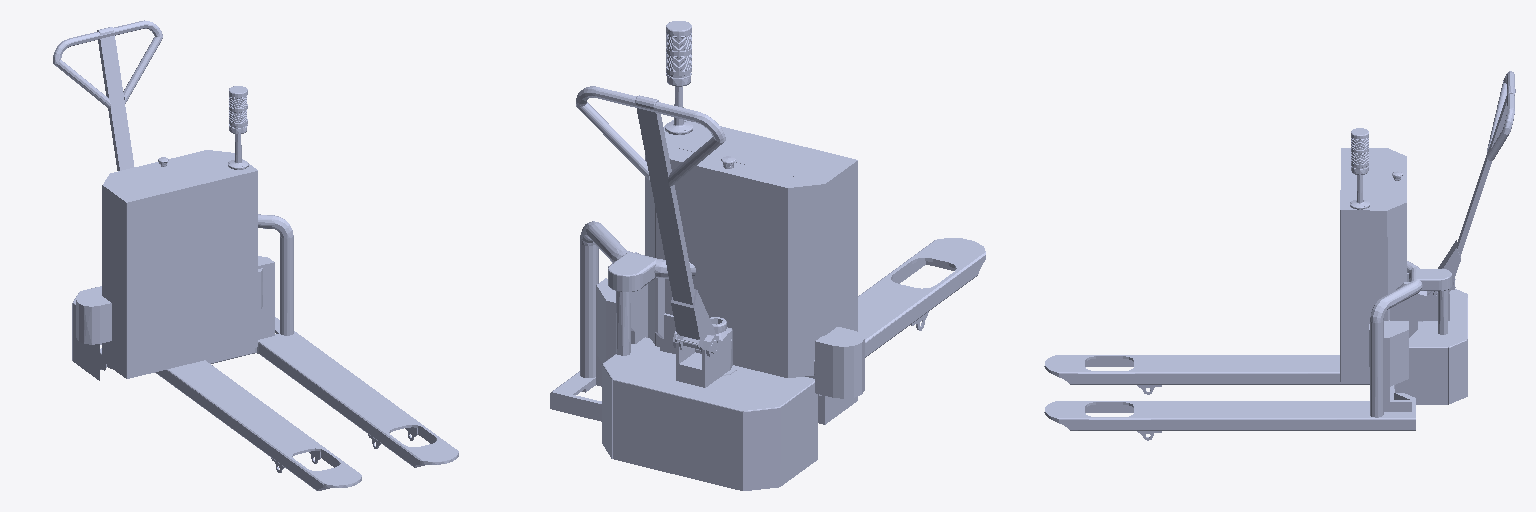
The robot description file, URDF, robot "robot_base":
<?xml version="1.0"?>

<robot name="robot_base">
  <link name="blok">
    <inertial>
      <origin
        xyz="0.0030946 4.78250032638821E-11 0.053305"
        rpy="0 0 0" />
      <mass
        value="47.873" />
      <inertia
        ixx="0.774276574699151"
        ixy="-1.03781944357671E-10"
        ixz="0.00763014265820928"
        iyy="1.64933255189991"
        iyz="1.09578155845563E-12"
        izz="2.1239326987473" />
    </inertial>
    <visual>
      <origin
        xyz="0 0 0"
        rpy="0 0 3.14" />
      <geometry>
        <mesh filename="package://mobile_manipulator_body/meshes/blok.dae" />
      </geometry>
      <material
        name="">
        <color
          rgba="0.79216 0.81961 0.93333 1" />
      </material>
    </visual>
    <collision>
      <origin
        xyz="0 0 0"
        rpy="0 0 3.14" />
      <geometry>
        <mesh filename="package://mobile_manipulator_body/meshes/blok.dae" />
      </geometry>
    </collision>
  </link>
  
    <link name="widly">
    <inertial>
      <origin
        xyz="0.030946 4.78250032638821E-11 0.053305"
        rpy="0 0 0" />
      <mass
        value="47.873" />
      <inertia
        ixx="0.774276574699151"
        ixy="-1.03781944357671E-10"
        ixz="0.00763014265820928"
        iyy="1.64933255189991"
        iyz="1.09578155845563E-12"
        izz="2.1239326987473" />
    </inertial>
    <visual>
      <origin
        xyz="0 -0.5 0"
        rpy="0 0 0" />
      <geometry>
        <mesh filename="package://mobile_manipulator_body/meshes/widly.dae" />
      </geometry>
      <material
        name="">
        <color
          rgba="0.79216 0.81961 0.93333 1" />
      </material>
    </visual>
    <collision>
      <origin
        xyz="0 -0.5 0"
        rpy="0 0 0" />
      <geometry>
        <mesh filename="package://mobile_manipulator_body/meshes/widly.dae" />
      </geometry>
    </collision>
  </link>
  
  <joint name="blok_widly" type="continuous">
    <axis xyz="0 1 0"/>
    <parent link ="blok"/>
    <child link ="widly"/>
    <origin rpy ="0 0 0" xyz= "0.220 0.250 0"/>
  </joint>

<!--######################################################################-->


<!--######################################################################-->
</robot>

--- What the picture shows (computed from the rendered views, not written in the file) ---
Views: 3 orthographic renders of the robot side by side, from view 1: azimuth 30°, elevation 25°; view 2: azimuth 150°, elevation 25°; view 3: azimuth 270°, elevation 25°.
Robot: robot_base — 2 links, 1 joints (1 continuous); root link blok; default pose: every joint at zero.
Links seen in each view (by area): view 1: blok, widly; view 2: blok, widly; view 3: widly, blok.
Link boxes in pixels (x1,y1,x2,y2): blok: (53,20,262,380); widly: (155,214,458,490); blok: (576,21,864,490); widly: (550,221,985,421); widly: (1044,261,1451,440); blok: (1340,71,1515,404).
Bounding box of the posed robot: 0.8774 × 1.73 × 1.2 m (x, y, z).
Meshes: 2 distinct files referenced, 2 mesh visuals loaded (2 Collada DAE).
